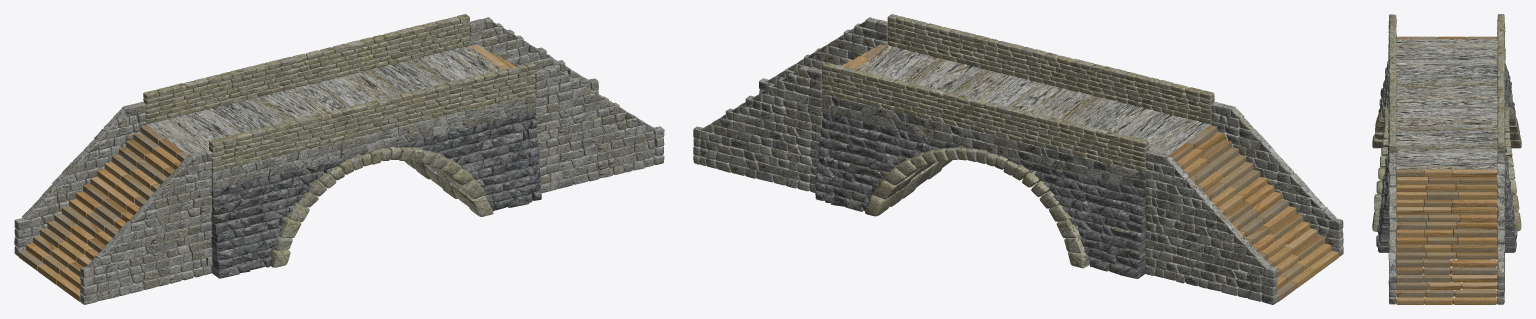
File: StoneBrigde.gltf
3 views of the same model, side by side, from view 1: azimuth 30°, elevation 25°; view 2: azimuth 150°, elevation 25°; view 3: azimuth 270°, elevation 25° (orthographic). The views are drawn at different scales.
Visible parts, largest first — view 1: Object_20, Object_25, Object_24, Object_21, Object_18, Object_22, Object_23, Object_19, Object_3, Object_9, Object_4, Object_5 (+20 smaller); view 2: Object_20, Object_18, Object_25, Object_24, Object_23, Object_22, Object_21, Object_19, Object_4, Object_5, Object_9, Object_2 (+20 smaller); view 3: Object_20, Object_18, Object_33, Object_24, Object_25, Object_29, Object_27, Object_23, Object_30, Object_22, Object_26, Object_21 (+20 smaller).
Part boxes in pixels (box(x1,y1,x2,y2)): Object_20: box(14, 17, 655, 304); Object_25: box(31, 31, 648, 295); Object_24: box(39, 29, 636, 292); Object_21: box(41, 17, 647, 289); Object_18: box(14, 19, 664, 300); Object_22: box(14, 35, 664, 278); Object_23: box(32, 54, 648, 286); Object_19: box(31, 23, 664, 293); Object_3: box(143, 22, 526, 267); Object_9: box(145, 16, 527, 216); Object_4: box(146, 27, 535, 207); Object_5: box(145, 21, 535, 168); Object_20: box(700, 18, 1343, 296); Object_18: box(700, 17, 1311, 304); Object_25: box(705, 37, 1343, 292); Object_24: box(693, 23, 1326, 280); Object_23: box(693, 46, 1343, 301); Object_22: box(699, 54, 1318, 297); Object_21: box(693, 39, 1279, 280); Object_19: box(693, 27, 1329, 284); Object_4: box(821, 16, 1214, 268); Object_5: box(822, 21, 1214, 237); Object_9: box(831, 17, 1212, 221); Object_2: box(822, 26, 1173, 206); Object_20: box(1388, 14, 1505, 288); Object_18: box(1388, 14, 1505, 304); Object_33: box(1396, 169, 1497, 289); Object_24: box(1388, 14, 1505, 304); Object_25: box(1388, 25, 1505, 281); Object_29: box(1424, 36, 1497, 297); Object_27: box(1396, 36, 1497, 297); Object_23: box(1388, 20, 1505, 290); Object_30: box(1396, 184, 1497, 267); Object_22: box(1388, 24, 1505, 297); Object_26: box(1396, 169, 1497, 274); Object_21: box(1388, 30, 1505, 283).
Size of the model in its own units: 24 by 5.15 by 6.48.
Materials: 32 (32 with a texture image).
